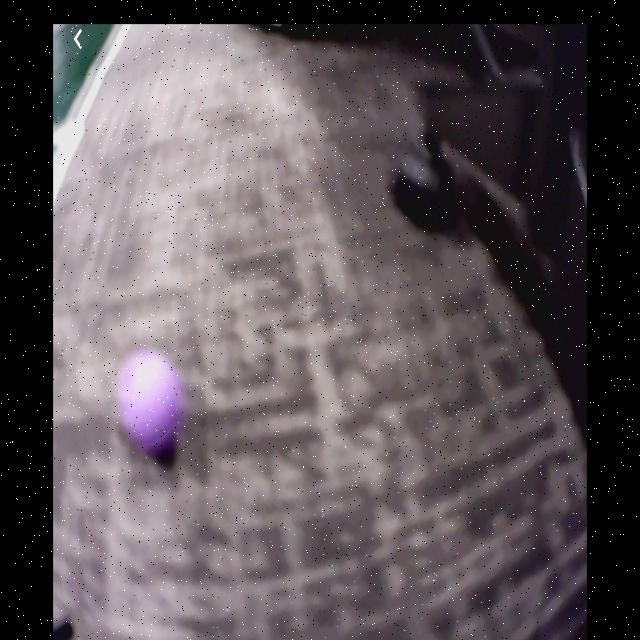ball: (114, 350, 184, 456)
